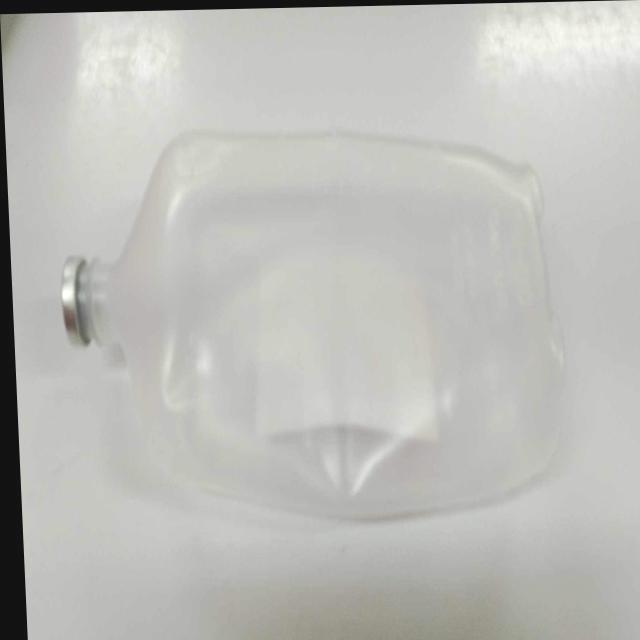Infectious: (62, 127, 567, 521)
